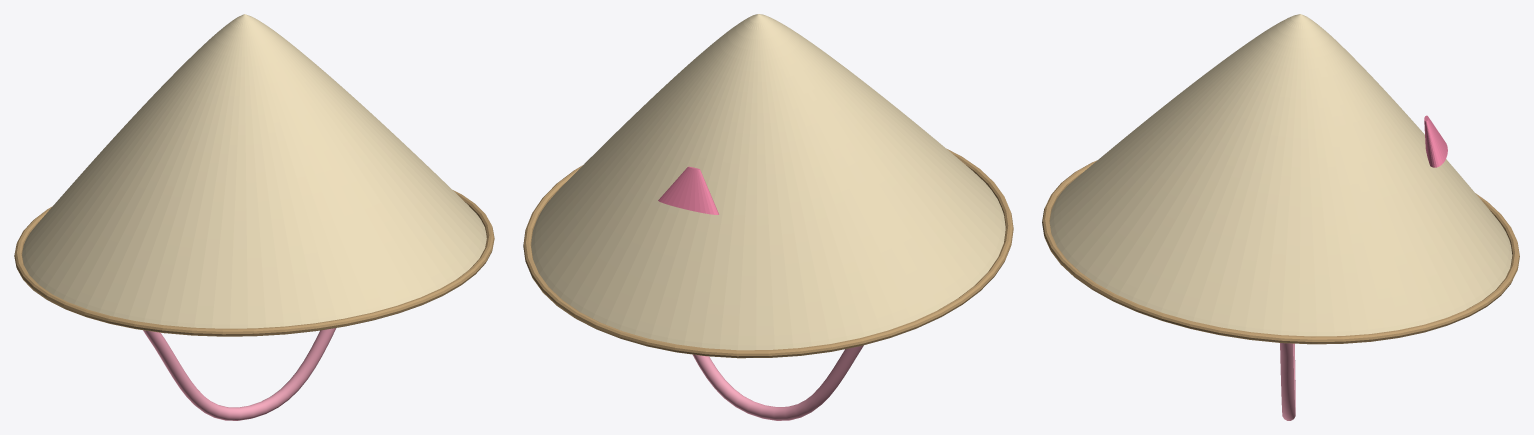
Rendered from non_la_blender.obj.
3 views of the same model, side by side, from view 1: azimuth 30°, elevation 25°; view 2: azimuth 150°, elevation 25°; view 3: azimuth 270°, elevation 25° (orthographic). The views are drawn at different scales.
Parts seen in each view (by area): view 1: Non_La_Theu_Sen, Non_La_Vanh_Cai, Non_La_Quai_Lua; view 2: Non_La_Theu_Sen, Non_La_Vanh_Cai, Non_La_Quai_Lua, Non_La_Hoa_Sen; view 3: Non_La_Theu_Sen, Non_La_Vanh_Cai, Non_La_Quai_Lua, Non_La_Hoa_Sen.
Boxes of the visible parts, box(x1,y1,x2,y2) form: Non_La_Theu_Sen: box(22, 14, 486, 328); Non_La_Vanh_Cai: box(14, 190, 494, 336); Non_La_Quai_Lua: box(143, 328, 336, 420); Non_La_Theu_Sen: box(531, 14, 1005, 350); Non_La_Vanh_Cai: box(523, 149, 1013, 358); Non_La_Quai_Lua: box(693, 345, 863, 420); Non_La_Hoa_Sen: box(658, 166, 718, 214); Non_La_Theu_Sen: box(1049, 14, 1512, 336); Non_La_Vanh_Cai: box(1042, 160, 1519, 344); Non_La_Quai_Lua: box(1280, 343, 1295, 420); Non_La_Hoa_Sen: box(1424, 115, 1447, 167).
Bounding box in the file's own units: 0.3976 × 0.3651 × 0.3964.
